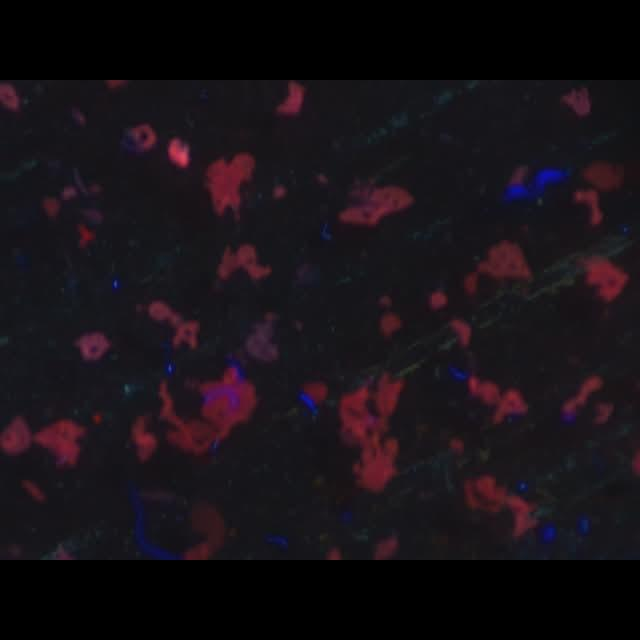Fragment: (338, 368, 402, 494), (146, 297, 200, 349)
